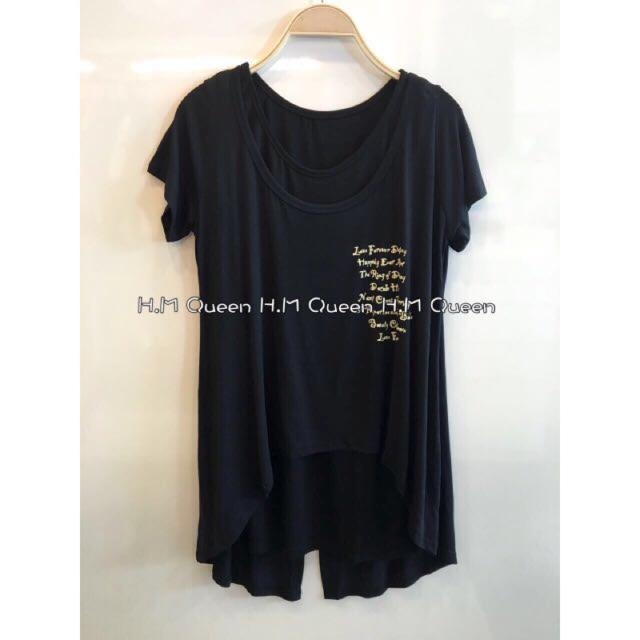Dresses: (149, 63, 487, 598)
